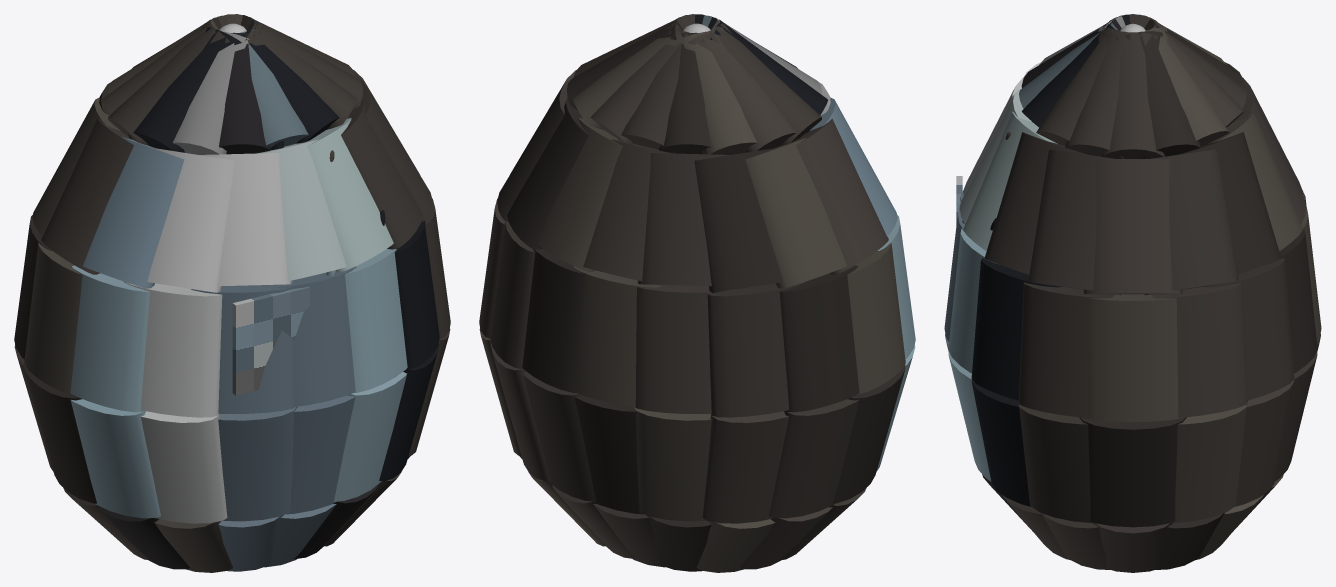
File: CMU3DCMUXenoEggNotDSNaturalFinalCloud.glb
3 renders of one model, left to right at view 1: azimuth 30°, elevation 25°; view 2: azimuth 150°, elevation 25°; view 3: azimuth 270°, elevation 25°, orthographic.
Parts seen in each view (by area): view 1: curved carapace rib 11 section 3, curved carapace rib 10 section 3, curved carapace rib 10 section 4, curved carapace rib 11 section 4, curved carapace rib 11 section 2, curved carapace rib 12 section 4, curved carapace rib 12 section 2, curved carapace rib 10 section 2, curved carapace rib 13 section 3, curved carapace rib 14 section 3, curved carapace rib 09 section 4, curved carapace rib 09 section 3 (+33 smaller); view 2: curved carapace rib 07 section 3, curved carapace rib 06 section 3, curved carapace rib 08 section 3, curved carapace rib 08 section 4, curved carapace rib 07 section 4, curved carapace rib 07 section 2, curved carapace rib 06 section 4, curved carapace rib 06 section 2, curved carapace rib 05 section 3, curved carapace rib 08 section 2, curved carapace rib 04 section 3, curved carapace rib 09 section 4 (+32 smaller); view 3: curved carapace rib 01 section 3, curved carapace rib 01 section 4, curved carapace rib 01 section 2, curved carapace rib 02 section 3, curved carapace rib 16 section 3, curved carapace rib 02 section 4, curved carapace rib 16 section 4, curved carapace rib 02 section 2, curved carapace rib 16 section 2, curved carapace rib 03 section 3, curved carapace rib 15 section 3, curved carapace rib 03 section 4 (+31 smaller).
Part boxes in pixels (bbox=[...]): curved carapace rib 11 section 3: bbox=[123, 281, 222, 417]; curved carapace rib 10 section 3: bbox=[70, 265, 150, 412]; curved carapace rib 10 section 4: bbox=[83, 137, 184, 288]; curved carapace rib 11 section 4: bbox=[147, 148, 235, 292]; curved carapace rib 11 section 2: bbox=[141, 411, 227, 523]; curved carapace rib 12 section 4: bbox=[200, 153, 292, 286]; curved carapace rib 12 section 2: bbox=[218, 407, 297, 521]; curved carapace rib 10 section 2: bbox=[70, 399, 160, 518]; curved carapace rib 13 section 3: bbox=[269, 266, 356, 406]; curved carapace rib 14 section 3: bbox=[345, 249, 407, 392]; curved carapace rib 09 section 4: bbox=[41, 118, 133, 274]; curved carapace rib 09 section 3: bbox=[24, 243, 82, 394]; curved carapace rib 07 section 3: bbox=[707, 281, 806, 417]; curved carapace rib 06 section 3: bbox=[635, 285, 738, 413]; curved carapace rib 08 section 3: bbox=[779, 265, 859, 412]; curved carapace rib 08 section 4: bbox=[745, 137, 846, 288]; curved carapace rib 07 section 4: bbox=[694, 148, 782, 292]; curved carapace rib 07 section 2: bbox=[702, 411, 788, 523]; curved carapace rib 06 section 4: bbox=[637, 153, 729, 286]; curved carapace rib 06 section 2: bbox=[632, 407, 711, 521]; curved carapace rib 05 section 3: bbox=[573, 266, 660, 406]; curved carapace rib 08 section 2: bbox=[769, 399, 859, 518]; curved carapace rib 04 section 3: bbox=[522, 249, 584, 392]; curved carapace rib 09 section 4: bbox=[796, 118, 888, 274]; curved carapace rib 01 section 3: bbox=[1083, 294, 1182, 421]; curved carapace rib 01 section 4: bbox=[1083, 159, 1182, 294]; curved carapace rib 01 section 2: bbox=[1079, 417, 1186, 527]; curved carapace rib 02 section 3: bbox=[1151, 282, 1247, 417]; curved carapace rib 16 section 3: bbox=[1018, 282, 1114, 417]; curved carapace rib 02 section 4: bbox=[1144, 149, 1238, 295]; curved carapace rib 16 section 4: bbox=[1027, 149, 1121, 295]; curved carapace rib 02 section 2: bbox=[1172, 402, 1247, 523]; curved carapace rib 16 section 2: bbox=[1018, 402, 1093, 523]; curved carapace rib 03 section 3: bbox=[1203, 258, 1294, 400]; curved carapace rib 15 section 3: bbox=[971, 258, 1062, 400]; curved carapace rib 03 section 4: bbox=[1179, 132, 1281, 274].
Size of what is drawn, in the model's own units: 0.4225 by 0.5384 by 0.3583.
23 materials, 1 textured.
